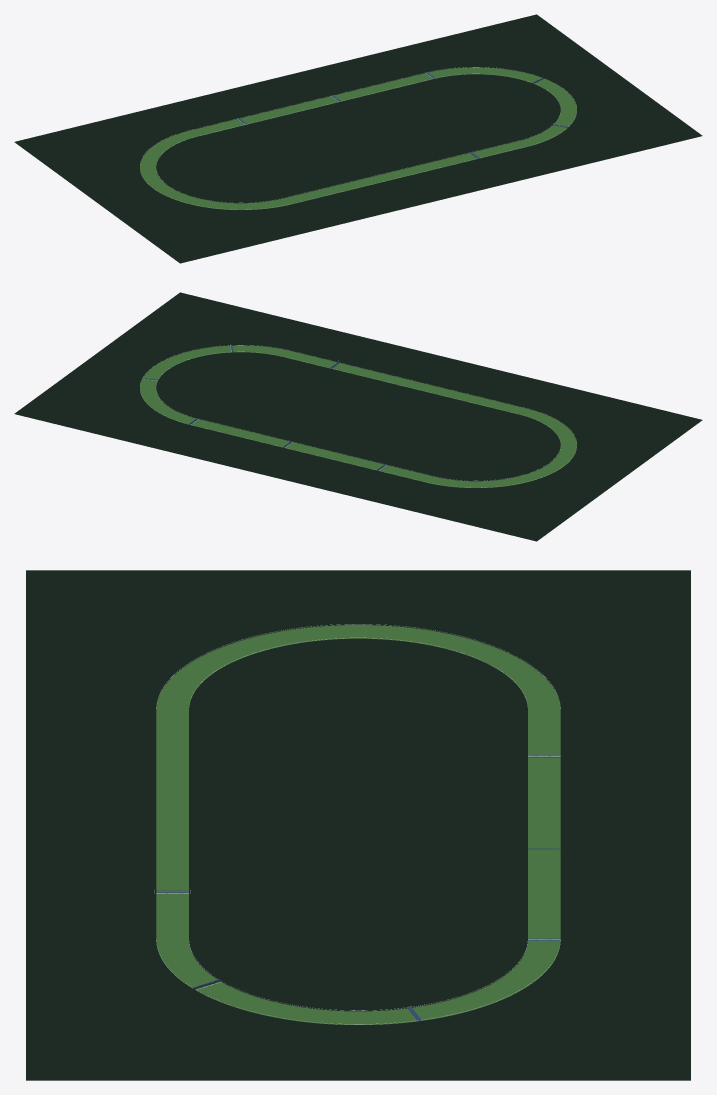
The model's file is generic-turf-oval.glb.
The picture shows the model from 3 angles, top to bottom: view 1: azimuth 30°, elevation 25°; view 2: azimuth 150°, elevation 25°; view 3: azimuth 270°, elevation 25°; orthographic projection. The views are drawn at different scales.
Visible parts, largest first — view 1: Terrain, Surface; view 2: Terrain, Surface; view 3: Terrain, Surface.
Boxes of the visible parts, x1,y1,x2,y2 form: Terrain: (14,14,702,263); Surface: (140,67,576,209); Terrain: (14,292,702,541); Surface: (140,345,576,487); Terrain: (26,570,690,1080); Surface: (156,625,560,1024).
Bounding box in the file's own units: 1112 × 4.8 × 612.
